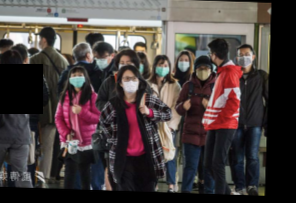with_mask: (119, 74, 139, 94), (235, 49, 252, 67), (67, 71, 85, 88), (92, 52, 110, 69), (153, 61, 170, 78), (194, 65, 212, 81), (117, 58, 136, 73), (176, 56, 191, 72), (136, 59, 145, 75)
